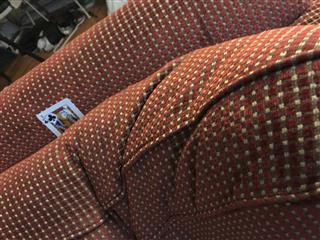JackOfClubs: (35, 97, 84, 137)
